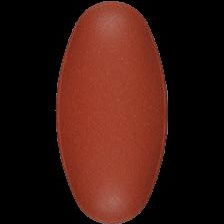0074-3290: (0, 0, 224, 224)
